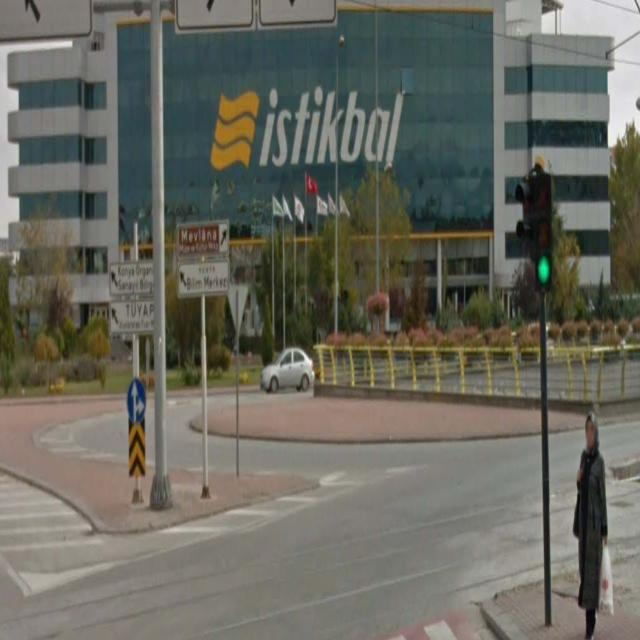ilerisag: (126, 378, 146, 424)
yesil: (536, 177, 552, 290)
